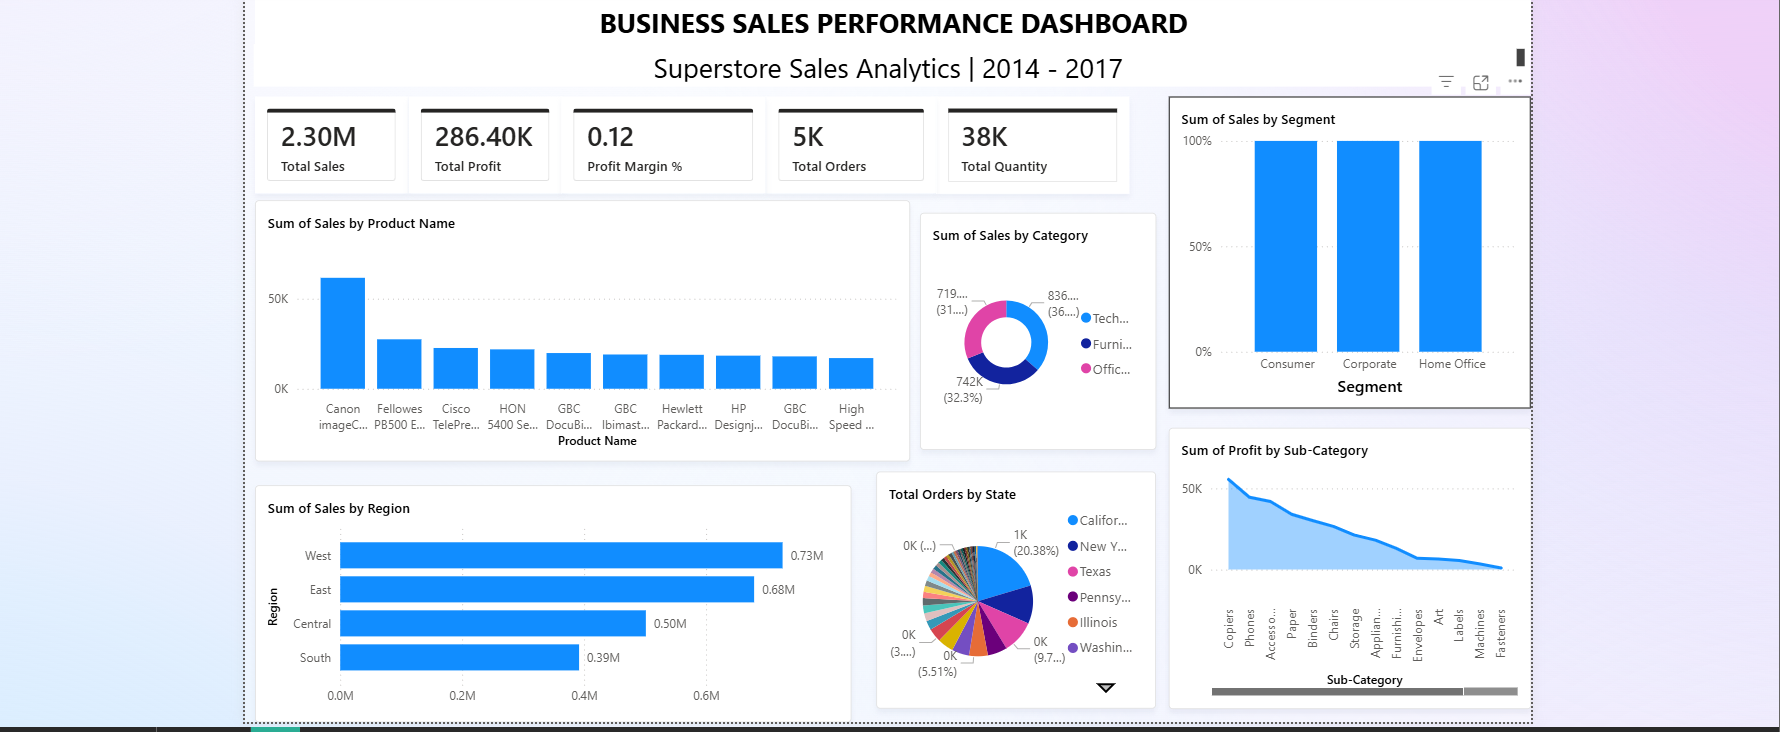

What the dashboard file says about the page in this screenshot:
{"tool":"powerbi","page":{"name":"Page 1","canvas":[1280,720],"ordinal":0},"visuals":[{"type":"textbox","box":[9.6,0,1270.7,54.9],"z":0},{"type":"textbox","box":[8.6,44.2,1270,42.8],"z":1000},{"type":"cardVisual","title":"Total Sales","fields":{"Data":["Sample - Superstore.Total Sales"]},"box":[10,96.9,152.5,96.9],"z":2000},{"type":"cardVisual","fields":{"Data":["Sample - Superstore.Total Quantity"]},"box":[687.9,97,192.8,97],"z":3000},{"type":"cardVisual","fields":{"Data":["Sample - Superstore.Total Profit"]},"box":[162.5,96.9,152.5,96.9],"z":4000},{"type":"cardVisual","fields":{"Data":["Sample - Superstore.Total Orders"]},"box":[518.8,96.9,169.6,96.9],"z":5000},{"type":"cardVisual","fields":{"Data":["Sample - Superstore.Profit Margin %"]},"box":[315,96.9,203.8,96.9],"z":6000},{"type":"donutChart","fields":{"Category":["Sample - Superstore.Category"],"Y":["Sum(Sample - Superstore.Sales)"]},"box":[671.7,212.7,235.1,236.4],"z":7000},{"type":"clusteredBarChart","fields":{"Category":["Sample - Superstore.Region"],"Y":["Sum(Sample - Superstore.Sales)"]},"box":[10,483.9,593.4,236.4],"z":8000},{"type":"columnChart","fields":{"Category":["Sample - Superstore.Product Name"],"Y":["Sum(Sample - Superstore.Sales)"]},"box":[10,200.3,651.8,260],"z":9000},{"type":"stackedAreaChart","fields":{"Category":["Sample - Superstore.Sub-Category"],"Y":["Sum(Sample - Superstore.Profit)"]},"box":[919.3,426.7,360.7,279.9],"z":10000},{"type":"hundredPercentStackedColumnChart","fields":{"Category":["Sample - Superstore.Segment"],"Y":["Sum(Sample - Superstore.Sales)"]},"box":[919.3,97,360.7,311],"z":11000},{"type":"pieChart","fields":{"Y":["Sample - Superstore.Total Orders"],"Category":["Sample - Superstore.State"]},"box":[628.2,470.2,278.6,236.4],"z":12000}]}

Visuals, with their boxes on the page's 1280x720 design canvas (x1, y1, x2, y2). These are canvas units, not pixel positions in the 1780x732 screenshot, which may show the page scaled, cropped or inside an application window:
textbox: (x1=10, y1=0, x2=1280, y2=55)
textbox: (x1=9, y1=44, x2=1279, y2=87)
"Total Sales" cardVisual: (x1=10, y1=97, x2=162, y2=194)
cardVisual - Sample - Superstore.Total Quantity: (x1=688, y1=97, x2=881, y2=194)
cardVisual - Sample - Superstore.Total Profit: (x1=162, y1=97, x2=315, y2=194)
cardVisual - Sample - Superstore.Total Orders: (x1=519, y1=97, x2=688, y2=194)
cardVisual - Sample - Superstore.Profit Margin %: (x1=315, y1=97, x2=519, y2=194)
donutChart - Sample - Superstore.Category x Sum(Sample - Superstore.Sales): (x1=672, y1=213, x2=907, y2=449)
clusteredBarChart - Sample - Superstore.Region x Sum(Sample - Superstore.Sales): (x1=10, y1=484, x2=603, y2=720)
columnChart - Sample - Superstore.Product Name x Sum(Sample - Superstore.Sales): (x1=10, y1=200, x2=662, y2=460)
stackedAreaChart - Sample - Superstore.Sub-Category x Sum(Sample - Superstore.Profit): (x1=919, y1=427, x2=1280, y2=707)
hundredPercentStackedColumnChart - Sample - Superstore.Segment x Sum(Sample - Superstore.Sales): (x1=919, y1=97, x2=1280, y2=408)
pieChart - Sample - Superstore.Total Orders x Sample - Superstore.State: (x1=628, y1=470, x2=907, y2=707)
